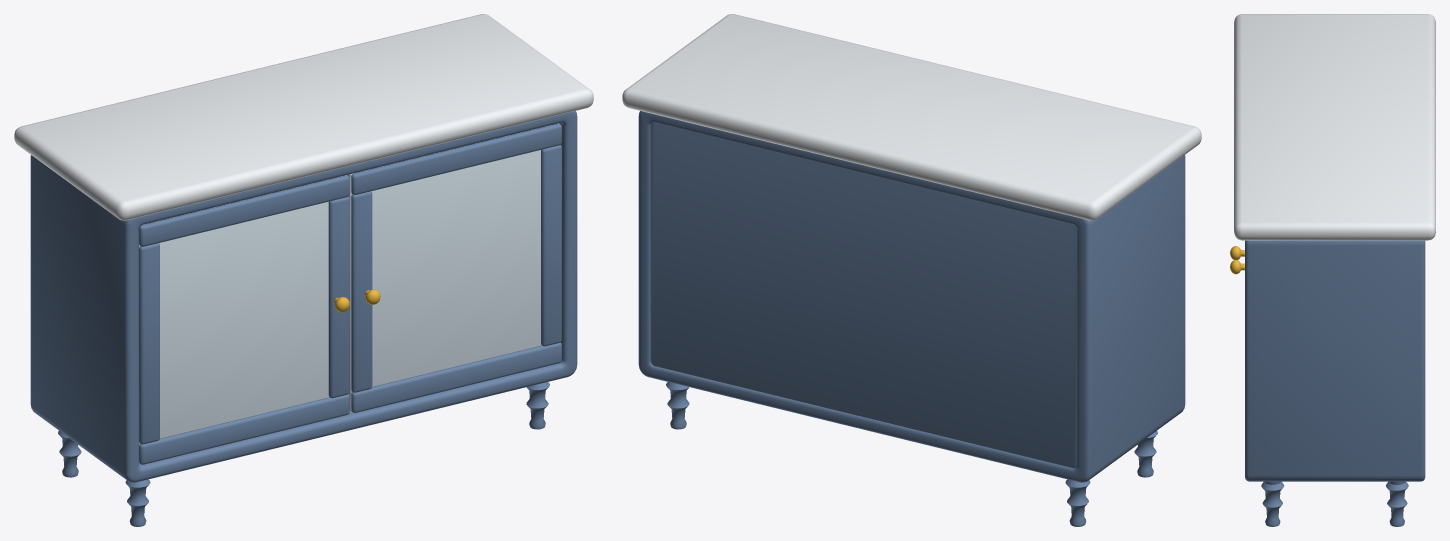
The model's file is aparador_2portas_azul.glb.
3 renders of one model, left to right at view 1: azimuth 30°, elevation 25°; view 2: azimuth 150°, elevation 25°; view 3: azimuth 270°, elevation 25°, orthographic. The views are drawn at different scales.
Visible parts, largest first — view 1: aparador_2portas_azul, porta_2, porta_1; view 2: aparador_2portas_azul; view 3: aparador_2portas_azul.
Part boxes in pixels (left/top/right/bottom): aparador_2portas_azul: left=14, top=14, right=593, bottom=526; porta_2: left=348, top=123, right=561, bottom=412; porta_1: left=139, top=175, right=349, bottom=464; aparador_2portas_azul: left=622, top=14, right=1201, bottom=526; aparador_2portas_azul: left=1234, top=14, right=1435, bottom=526.
Bounding box in the file's own units: 1.18 × 0.811 × 0.4796.
Materials: 1 (1 with a texture image).
